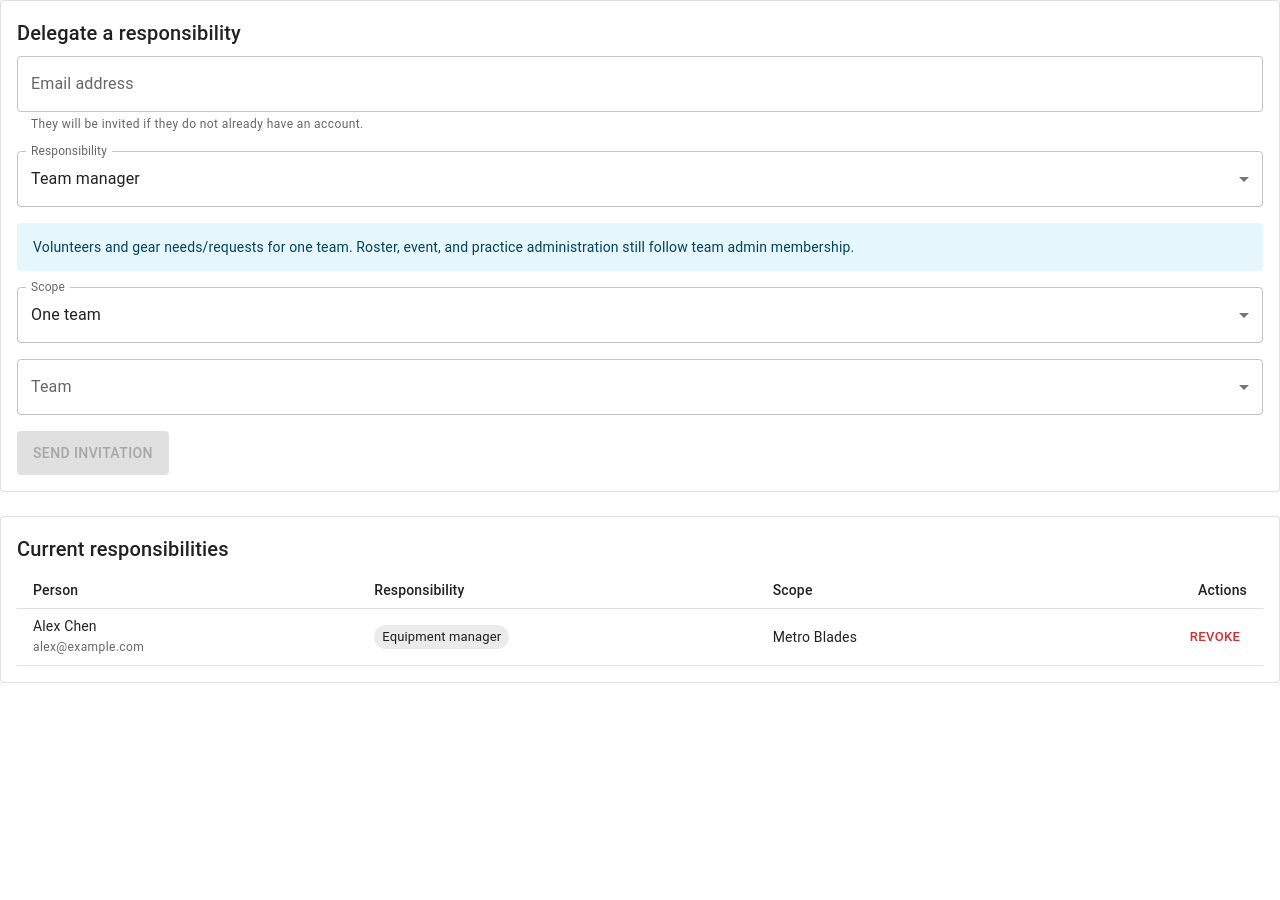
it: RoleGrantManager › does not offer roles whose work is not yet routed through grants
The width and height of the screenshot is (1280, 900).
Click the dropdown named "Responsibility".
click(85, 179)  # box top-left (31, 169), bottom-right (140, 188)
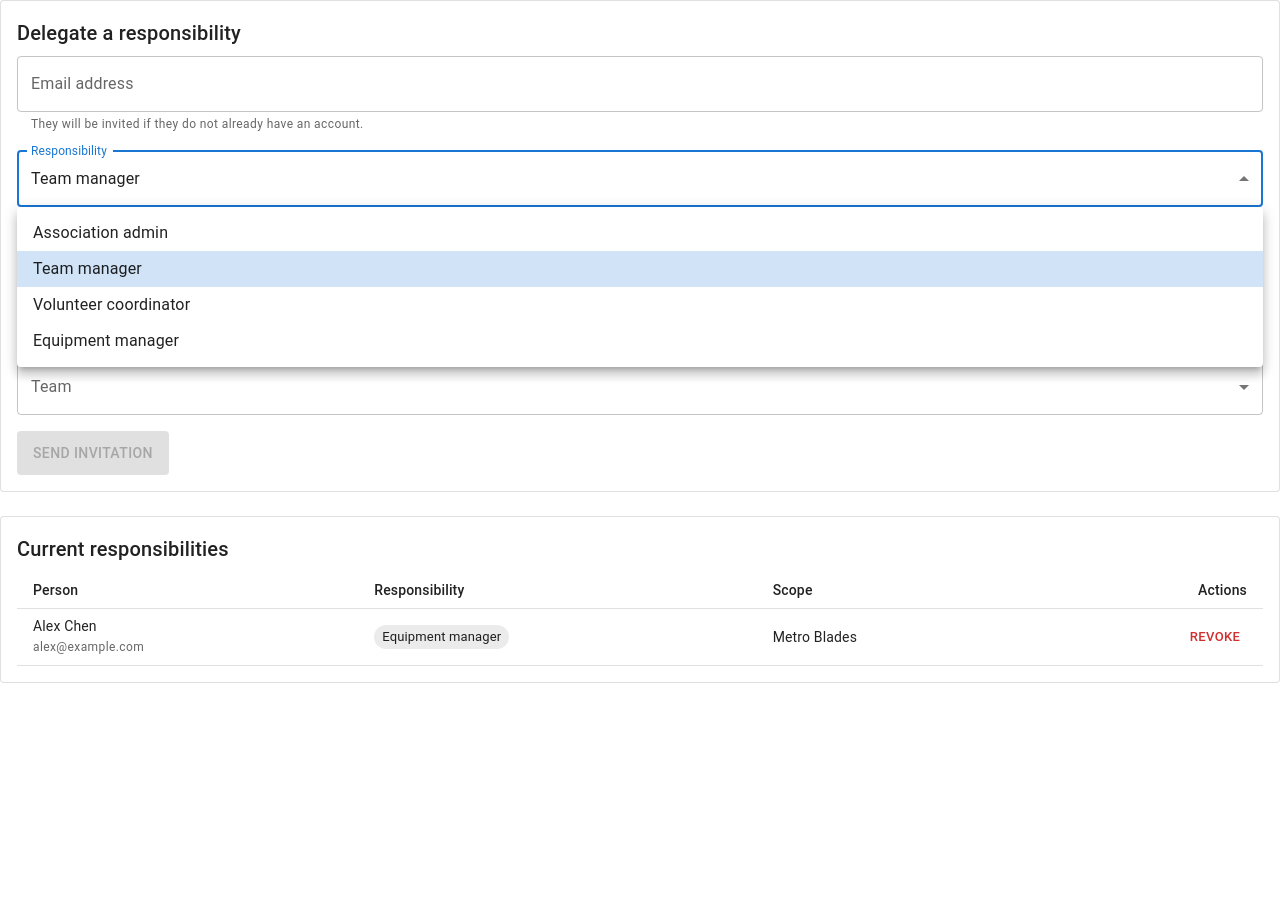
Expected: the option "Equipment manager" is shown, top-left (33, 331), bottom-right (179, 350)
Expected: the option "Volunteer coordinator" is shown, top-left (33, 295), bottom-right (190, 314)
